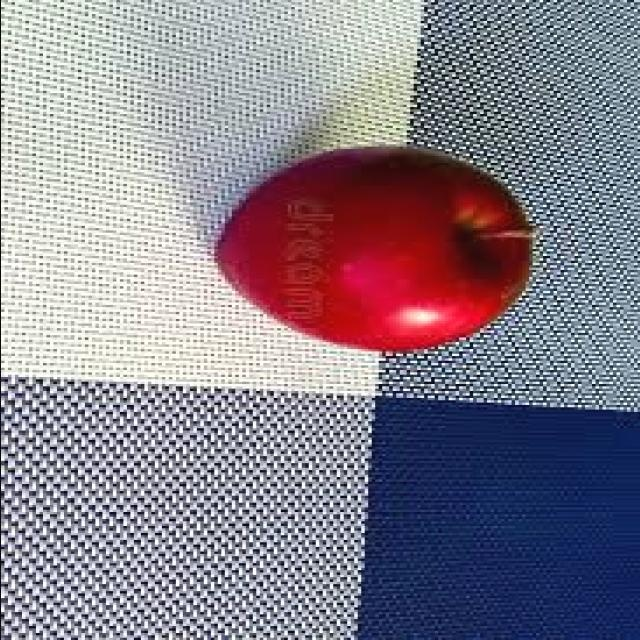agrume: (200, 96, 532, 384)
